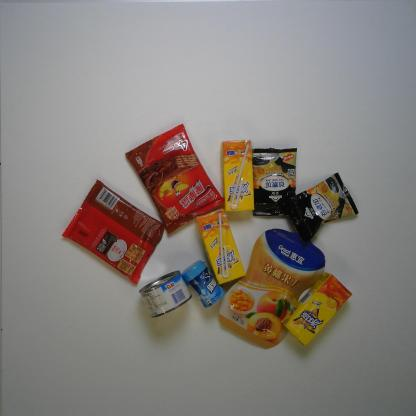Canned Food: (138, 270, 192, 318)
Dessert: (59, 177, 166, 285), (124, 123, 226, 235)
Dried Fruit: (218, 228, 326, 347)
Drink: (280, 271, 353, 346), (196, 209, 247, 286), (219, 139, 255, 213)
Gum: (181, 259, 224, 308)
Instant Drink: (286, 172, 360, 241), (250, 147, 298, 217)
